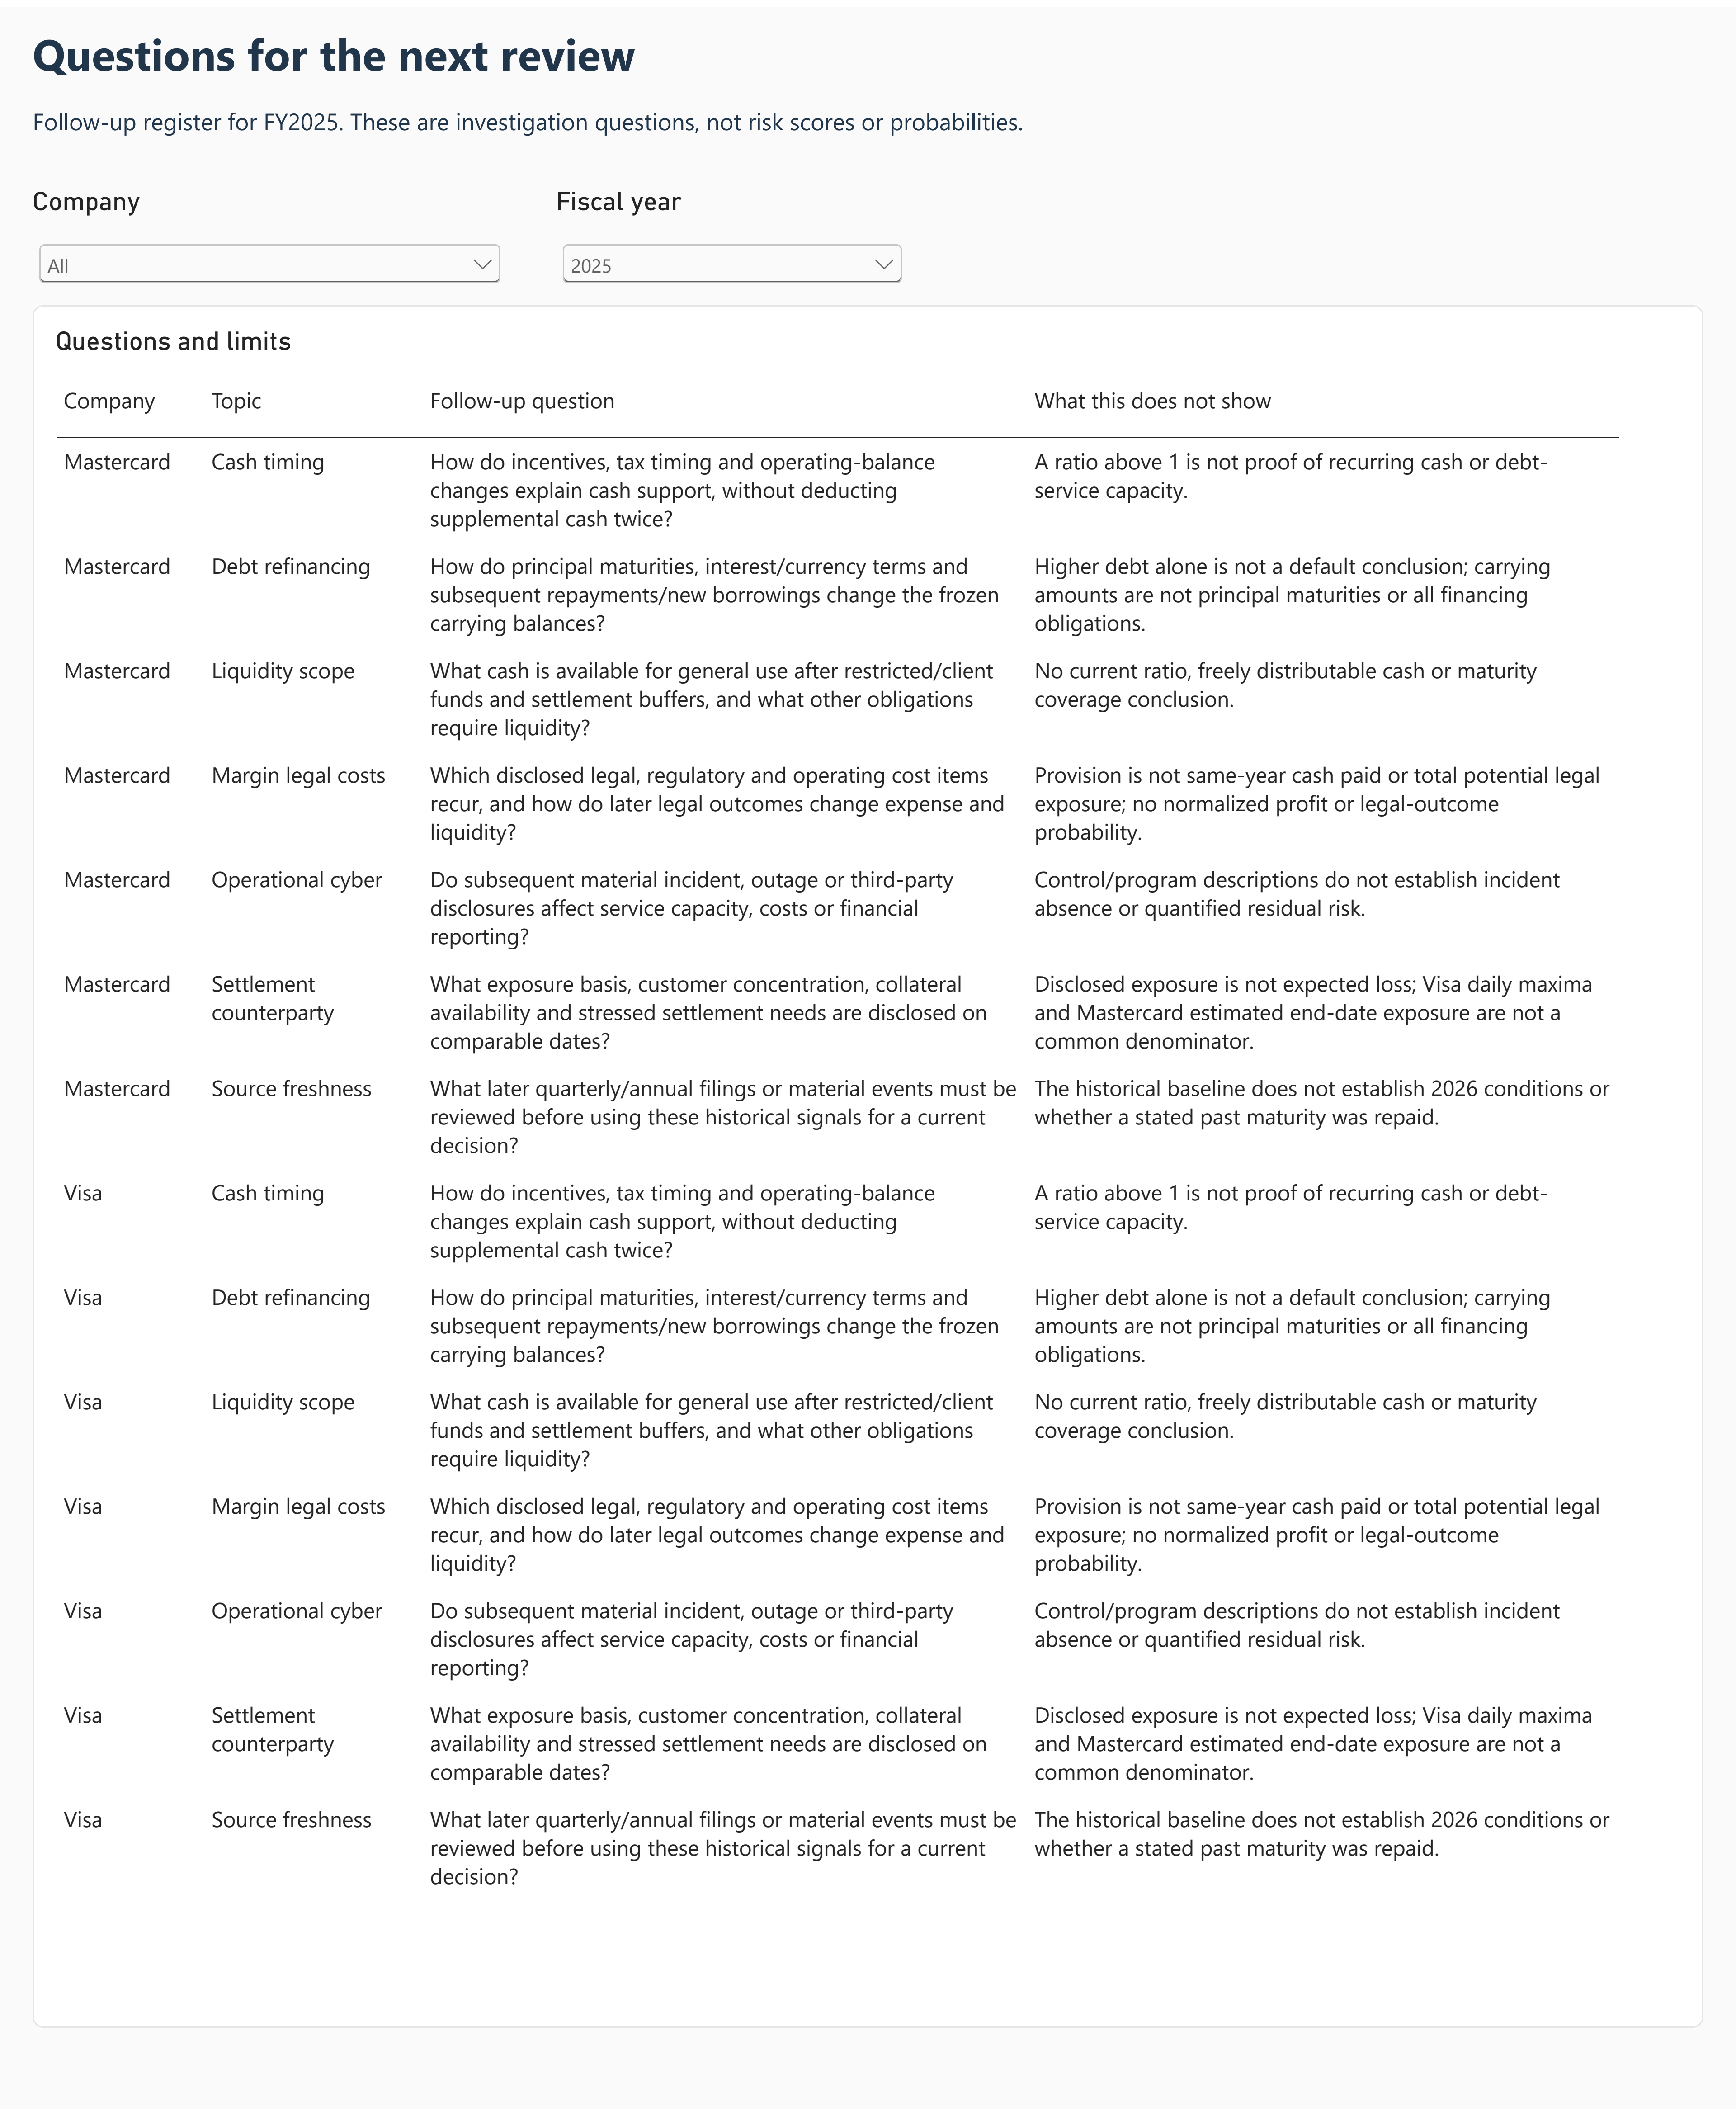

This screenshot's page, from the dashboard's own definition file:
{"tool":"powerbi","page":{"name":"05 Follow-up Questions","canvas":[1280,1550],"ordinal":4},"visuals":[{"type":"tableEx","title":"Questions and limits","fields":{"Values":["Companies.CompanyName","Investigations.Family display","Investigations.FollowUpQuestion","Investigations.Limit display"]},"box":[24,220,1232,1270],"z":0},{"type":"slicer","title":"Company","fields":{"Values":["Companies.CompanyName"]},"box":[24,132,350,80],"z":3000},{"type":"slicer","title":"Fiscal year","fields":{"Values":["FiscalYears.FiscalYear"]},"box":[410,132,260,80],"z":4000},{"type":"textbox","box":[24,12,1232,58],"z":8000},{"type":"textbox","box":[24,72,1232,48],"z":8000}]}

Visuals, with their boxes in screenshot pixels (x1, y1, x2, y2), scaled from the page's 1280x1550 canvas onto the 1736x2116 screenshot:
"Questions and limits" tableEx: crop(33, 300, 1703, 2034)
"Company" slicer: crop(33, 180, 507, 289)
"Fiscal year" slicer: crop(556, 180, 909, 289)
textbox: crop(33, 16, 1703, 95)
textbox: crop(33, 98, 1703, 164)
